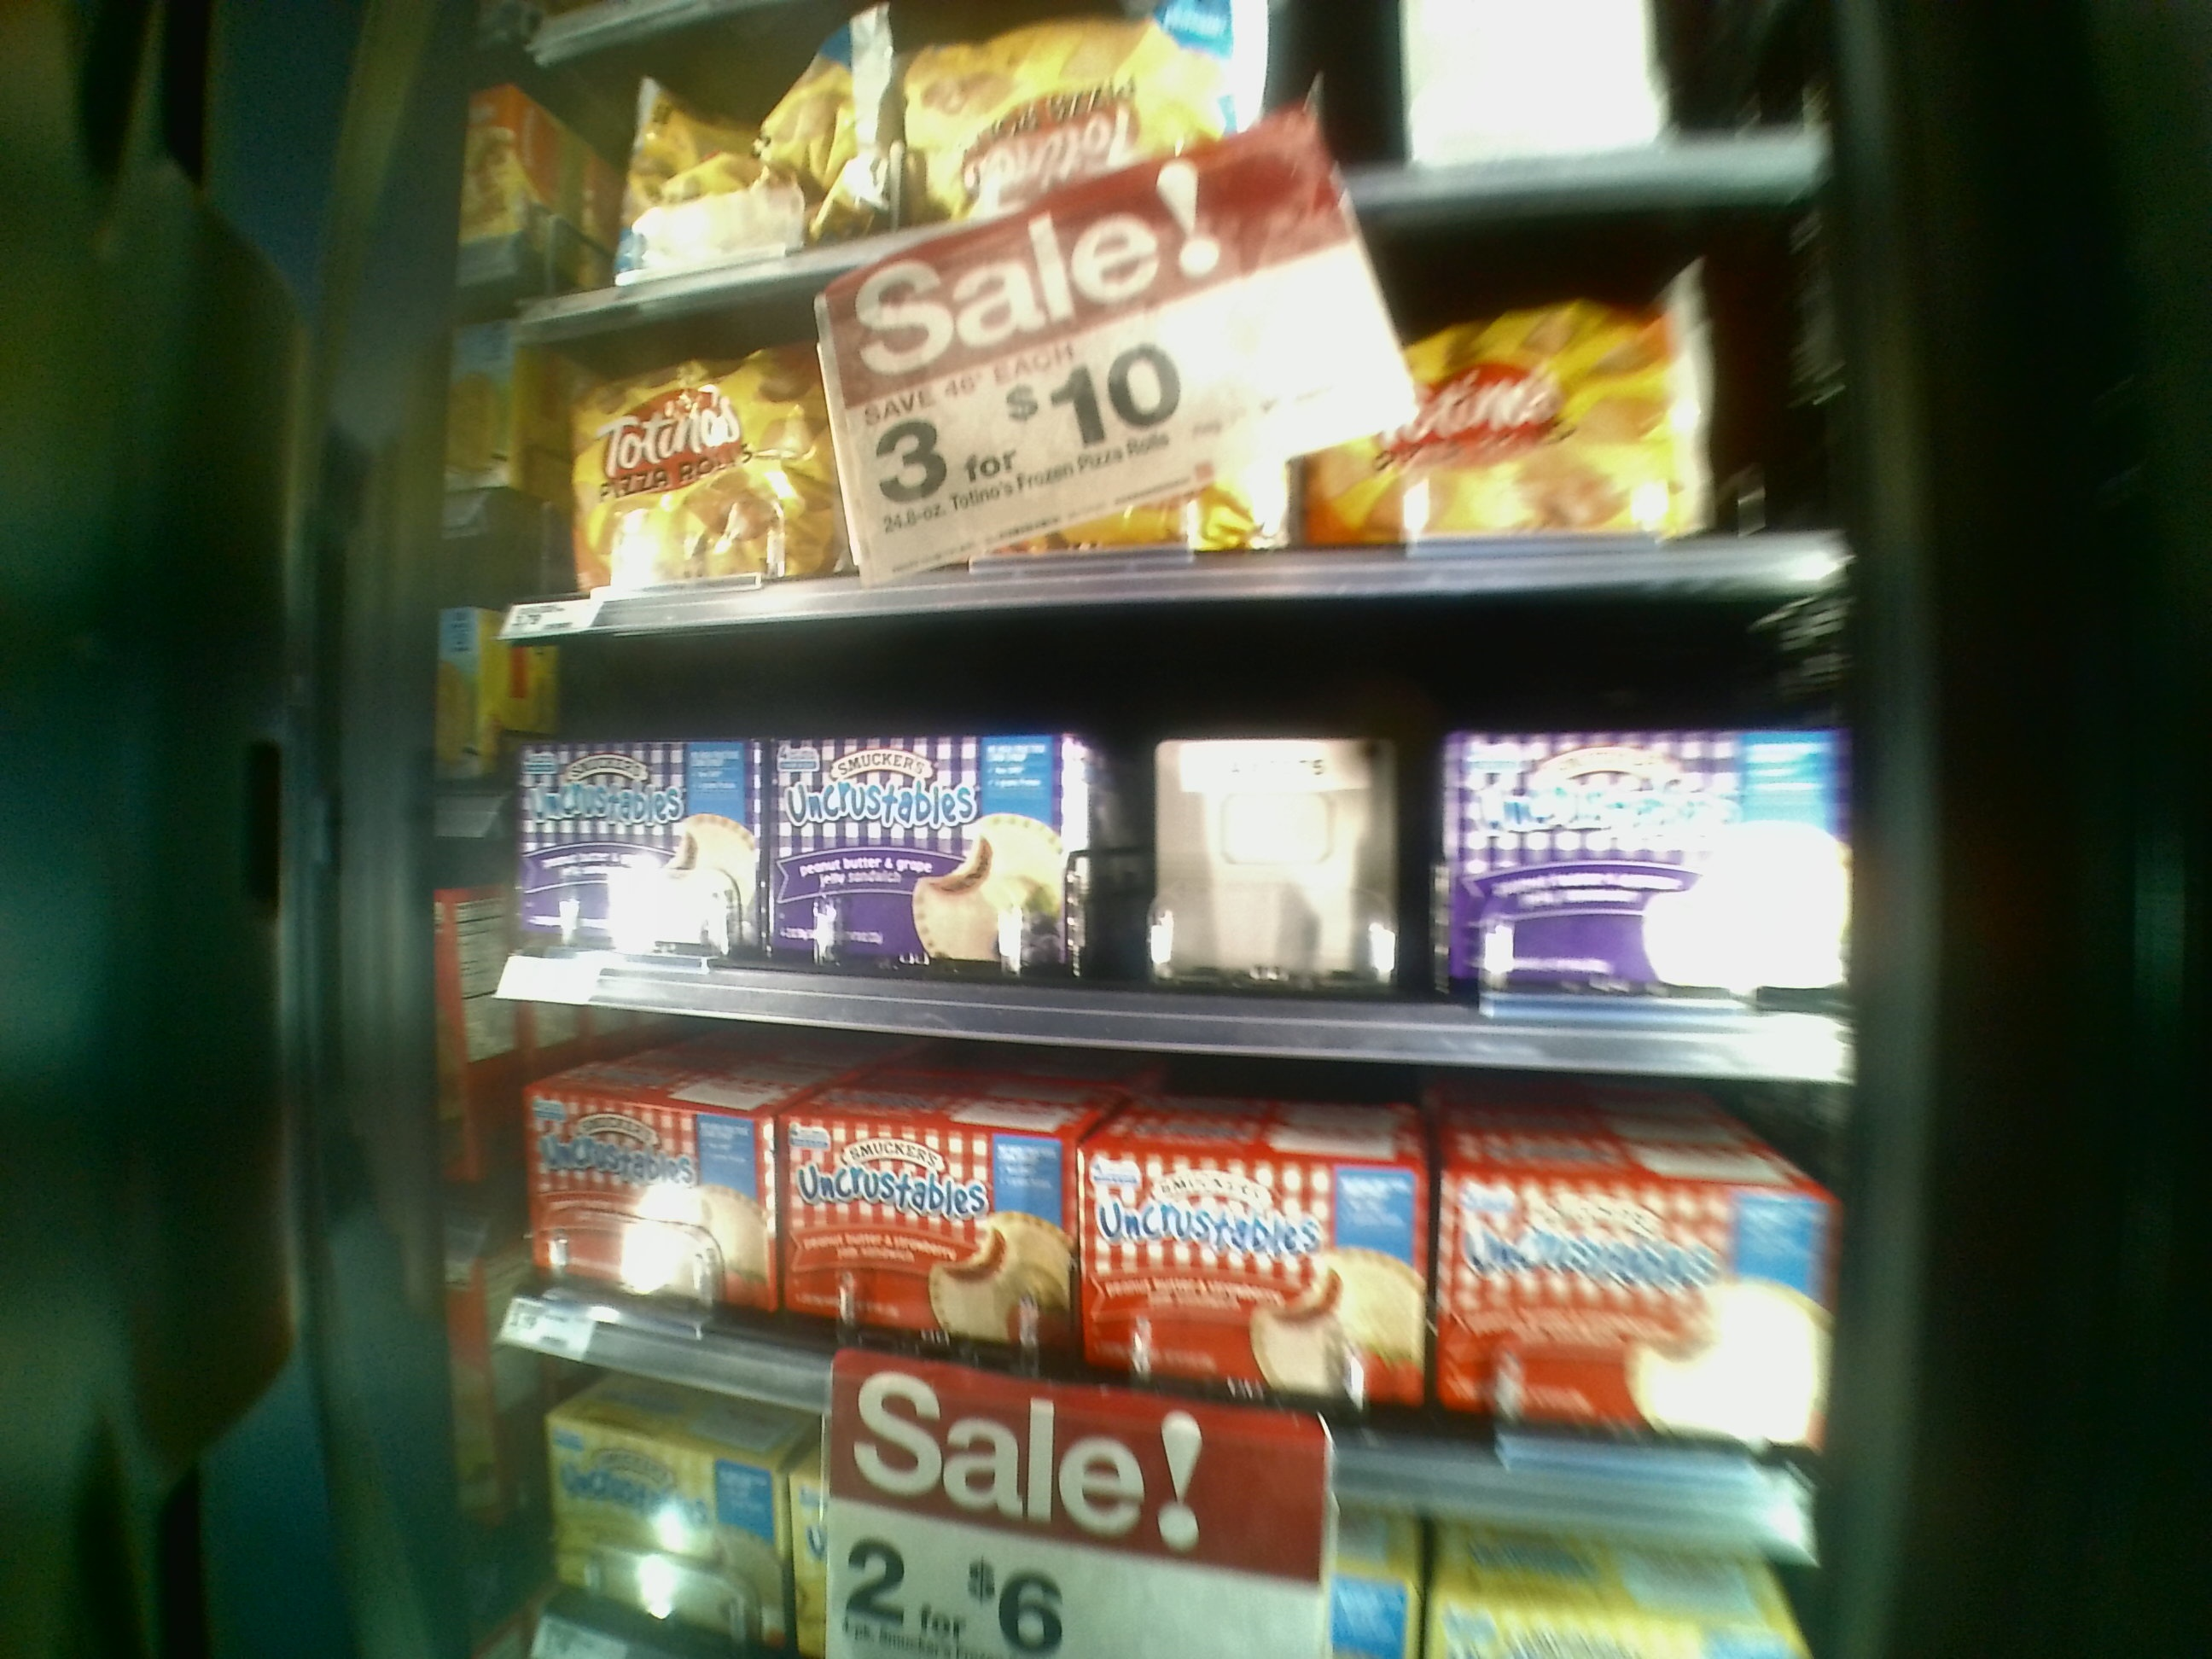shelf: (474, 988, 1822, 1546), (477, 619, 1858, 1084), (493, 300, 1858, 626)
